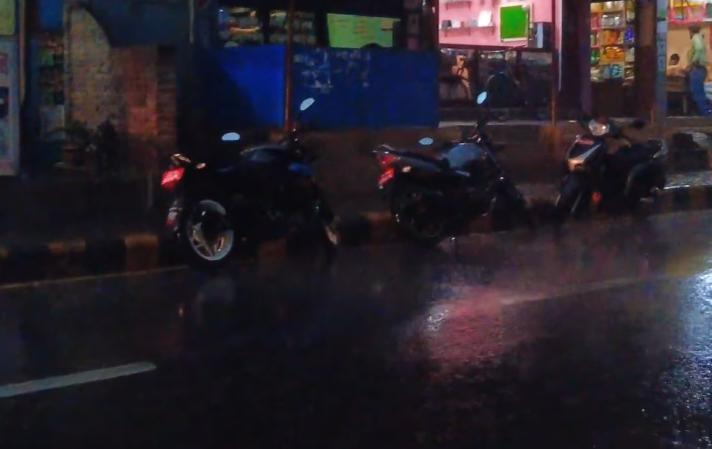bike: (160, 97, 351, 265), (370, 108, 533, 238)
